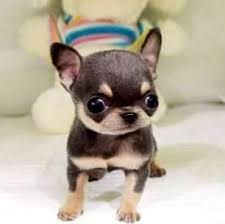chihuahua: (34, 26, 193, 218)
